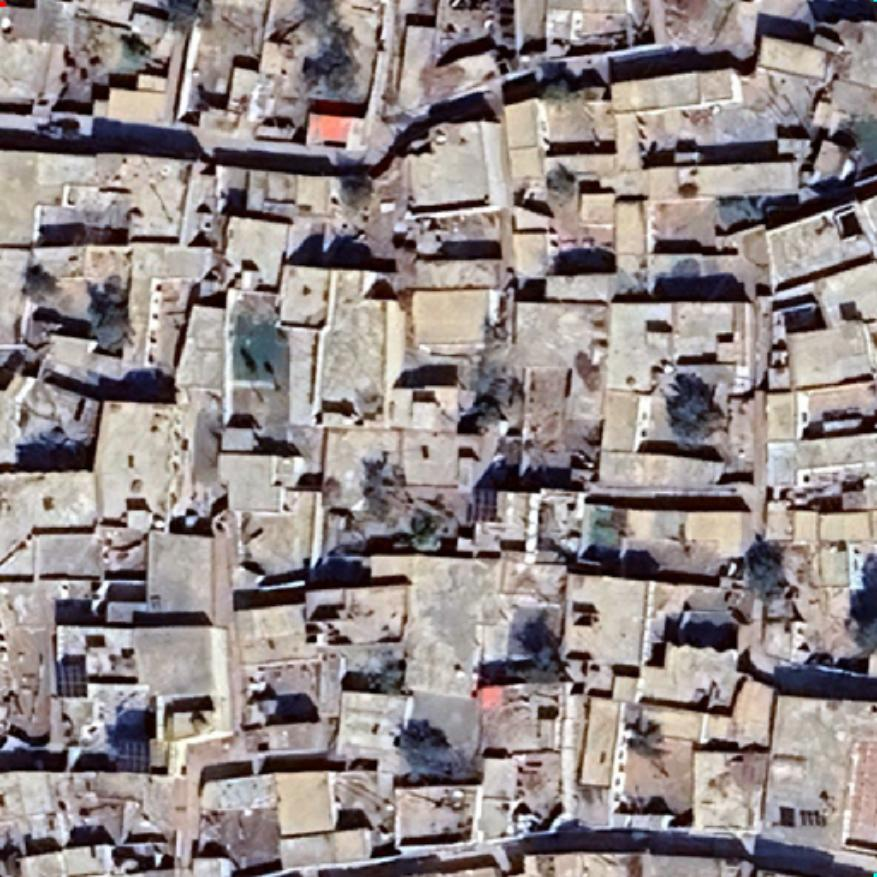Solarpanel: (111, 735, 155, 777), (465, 482, 505, 526), (53, 658, 92, 701)
